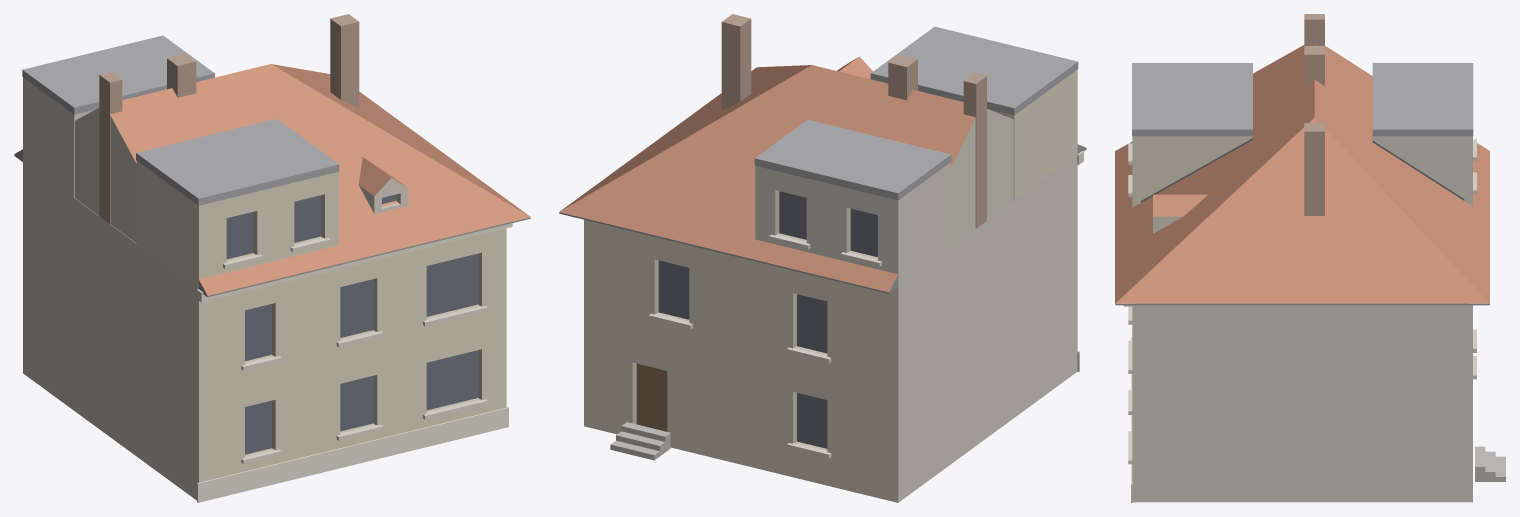
The picture shows the model from 3 angles, left to right: view 1: azimuth 30°, elevation 25°; view 2: azimuth 150°, elevation 25°; view 3: azimuth 270°, elevation 25°; orthographic projection. The views are drawn at different scales.
Parts seen in each view (by area): view 1: CP_1901_Masonry, CP_1901_Roof, CP_1901_Vol_mansard_front_Masonry, CP_1901_WingRoof_vol_mansard_front, CP_1901_WingRoof_vol_mansard_rear, CP_1901_Cornice_main_plinth_0, CP_1901_AtticClosure, CP_1901_Vol_mansard_rear_Masonry, CP_1901_Chimney_0, CP_1901_Chimney_2, CP_1901_Dormer_d1, CP_1901_Cornice_main_eave_0 (+2 smaller); view 2: CP_1901_Masonry, CP_1901_Roof, CP_1901_Vol_mansard_rear_Masonry, CP_1901_WingRoof_vol_mansard_rear, CP_1901_WingRoof_vol_mansard_front, CP_1901_Vol_mansard_front_Masonry, CP_1901_AtticClosure, CP_1901_Chimney_0, CP_1901_Chimney_2, CP_1901_Chimney_1, CP_1901_Roof_EaveClosure_2, CP_1901_Step_0_2; view 3: CP_1901_Masonry, CP_1901_Roof, CP_1901_WingRoof_vol_mansard_front, CP_1901_WingRoof_vol_mansard_rear, CP_1901_Vol_mansard_front_Masonry, CP_1901_Vol_mansard_rear_Masonry, CP_1901_Chimney_0, CP_1901_Dormer_d1, CP_1901_Roof_EaveClosure_1, CP_1901_Chimney_1, CP_1901_Chimney_2.
Part boxes in pixels (bbox=[...]): CP_1901_Masonry: bbox=[23, 161, 506, 500]; CP_1901_Roof: bbox=[15, 64, 530, 295]; CP_1901_Vol_mansard_front_Masonry: bbox=[136, 161, 338, 289]; CP_1901_WingRoof_vol_mansard_front: bbox=[136, 118, 339, 205]; CP_1901_WingRoof_vol_mansard_rear: bbox=[22, 35, 214, 114]; CP_1901_Cornice_main_plinth_0: bbox=[197, 407, 508, 502]; CP_1901_AtticClosure: bbox=[75, 108, 136, 242]; CP_1901_Vol_mansard_rear_Masonry: bbox=[23, 77, 93, 198]; CP_1901_Chimney_0: bbox=[330, 14, 359, 108]; CP_1901_Chimney_2: bbox=[99, 72, 122, 224]; CP_1901_Dormer_d1: bbox=[358, 157, 408, 213]; CP_1901_Cornice_main_eave_0: bbox=[197, 223, 512, 302]; CP_1901_Masonry: bbox=[584, 155, 1077, 502]; CP_1901_Roof: bbox=[559, 65, 1085, 292]; CP_1901_Vol_mansard_rear_Masonry: bbox=[755, 162, 950, 285]; CP_1901_WingRoof_vol_mansard_rear: bbox=[754, 119, 951, 200]; CP_1901_WingRoof_vol_mansard_front: bbox=[870, 26, 1078, 115]; CP_1901_Vol_mansard_front_Masonry: bbox=[991, 69, 1077, 200]; CP_1901_AtticClosure: bbox=[950, 109, 1013, 246]; CP_1901_Chimney_0: bbox=[721, 14, 751, 110]; CP_1901_Chimney_2: bbox=[963, 73, 986, 228]; CP_1901_Chimney_1: bbox=[888, 54, 917, 100]; CP_1901_Roof_EaveClosure_2: bbox=[559, 212, 897, 293]; CP_1901_Step_0_2: bbox=[621, 422, 670, 452]; CP_1901_Masonry: bbox=[1132, 305, 1472, 502]; CP_1901_Roof: bbox=[1115, 45, 1489, 303]; CP_1901_WingRoof_vol_mansard_front: bbox=[1132, 63, 1252, 136]; CP_1901_WingRoof_vol_mansard_rear: bbox=[1372, 63, 1473, 136]; CP_1901_Vol_mansard_front_Masonry: bbox=[1132, 136, 1252, 207]; CP_1901_Vol_mansard_rear_Masonry: bbox=[1373, 136, 1472, 205]; CP_1901_Chimney_0: bbox=[1304, 123, 1324, 215]; CP_1901_Dormer_d1: bbox=[1153, 194, 1207, 233]; CP_1901_Roof_EaveClosure_1: bbox=[1115, 303, 1489, 305]; CP_1901_Chimney_1: bbox=[1304, 46, 1324, 85]; CP_1901_Chimney_2: bbox=[1304, 14, 1324, 45].
Bounding box in the file's own units: 10.55 × 11 × 11.36.
